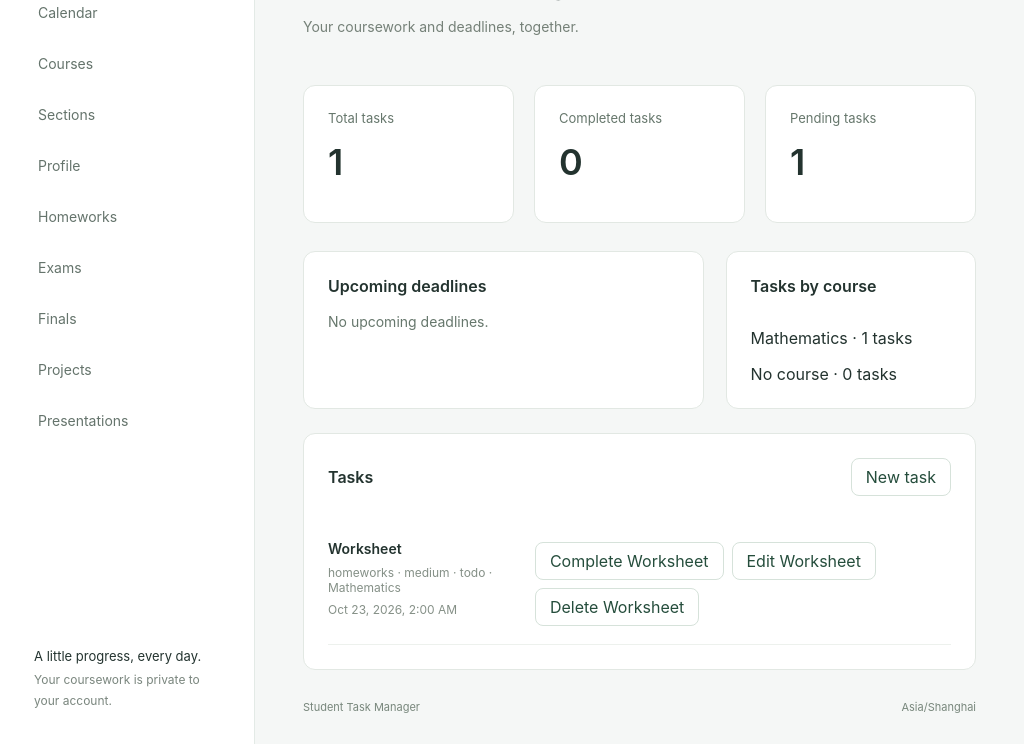
it: auth events refresh bearer tokens and sign-out removes protected content
The width and height of the screenshot is (1024, 744).
(page scrolled)
What coordinates should you click on to do the following:
click the button "Complete Worksheet"
I would click on:
 (629, 561)
Its box is [535,542,724,580].
(page scrolled)
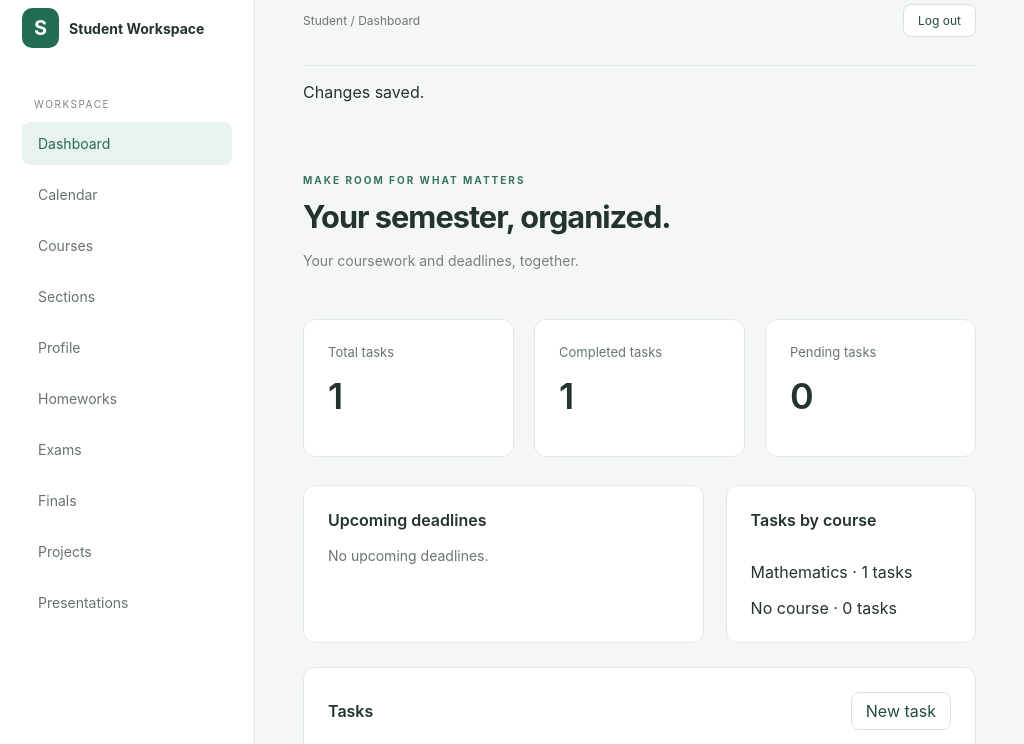
What coordinates should you click on to do the following:
click the button "Log out"
I would click on:
 (940, 20)
Its box is [903,4,976,37].
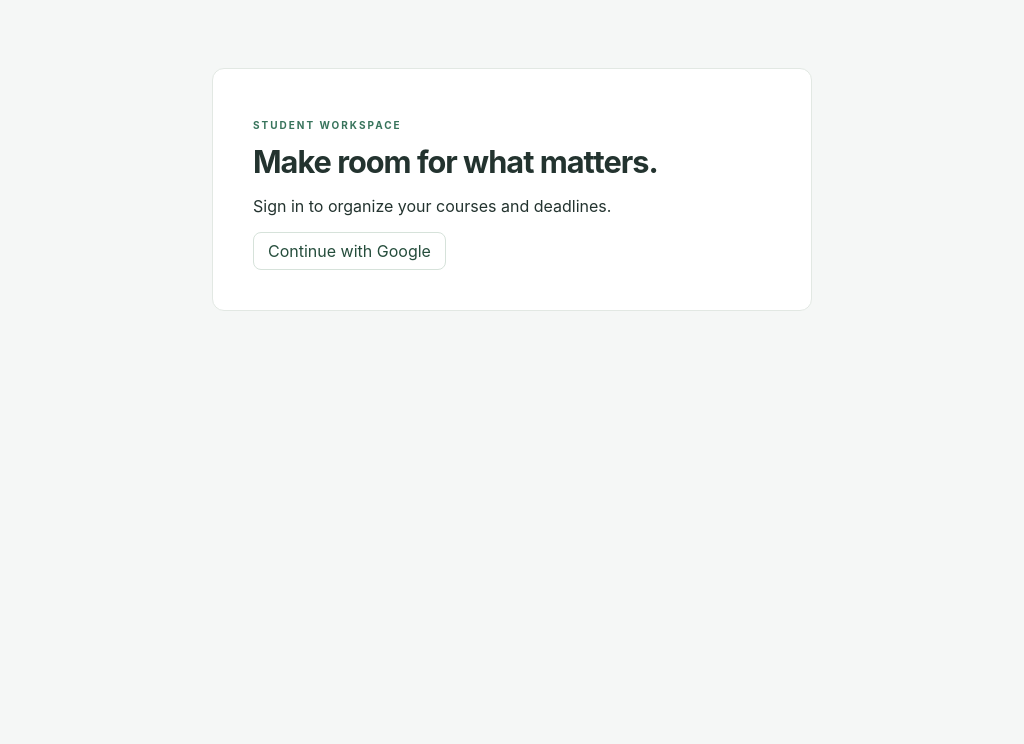
expect the button "Continue with Google" is shown: met, box [253,232,446,270]
